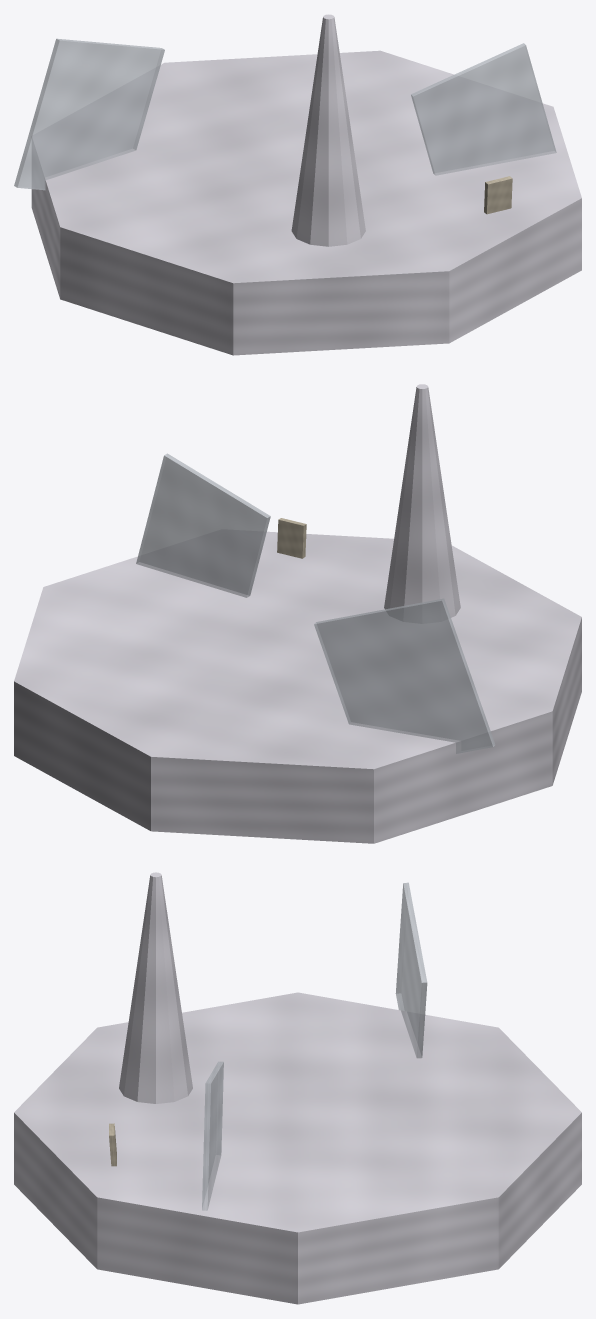
The model's file is glass-necropolis.glb.
3 renders of one model, top to bottom at view 1: azimuth 30°, elevation 25°; view 2: azimuth 150°, elevation 25°; view 3: azimuth 270°, elevation 25°, orthographic. The views are drawn at different scales.
Visible parts, largest first — view 1: necropolis-high-plateau, necropolis-glass-panel-0, necropolis-glass-panel-1, necropolis-spire, necropolis-grave-marker-0; view 2: necropolis-high-plateau, necropolis-glass-panel-0, necropolis-glass-panel-1, necropolis-spire, necropolis-grave-marker-0; view 3: necropolis-high-plateau, necropolis-spire, necropolis-glass-panel-0, necropolis-glass-panel-1.
Part boxes in pixels (box(x1,y1,x2,y2)): necropolis-high-plateau: box(31, 50, 581, 355); necropolis-glass-panel-0: box(14, 38, 164, 190); necropolis-glass-panel-1: box(411, 43, 556, 175); necropolis-spire: box(291, 14, 365, 246); necropolis-grave-marker-0: box(484, 176, 512, 214); necropolis-high-plateau: box(14, 530, 581, 843); necropolis-glass-panel-0: box(314, 598, 495, 753); necropolis-glass-panel-1: box(136, 453, 270, 597); necropolis-spire: box(384, 384, 460, 623); necropolis-grave-marker-0: box(277, 518, 306, 558); necropolis-high-plateau: box(14, 992, 581, 1304); necropolis-spire: box(119, 872, 192, 1103); necropolis-glass-panel-0: box(395, 882, 427, 1058); necropolis-glass-panel-1: box(202, 1061, 223, 1210).
Size of the model in its own units: 2 by 1.27 by 2.
6 materials, 6 textured.
